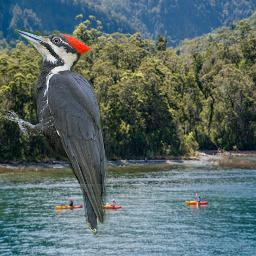Woodpecker: (1, 27, 116, 237)
